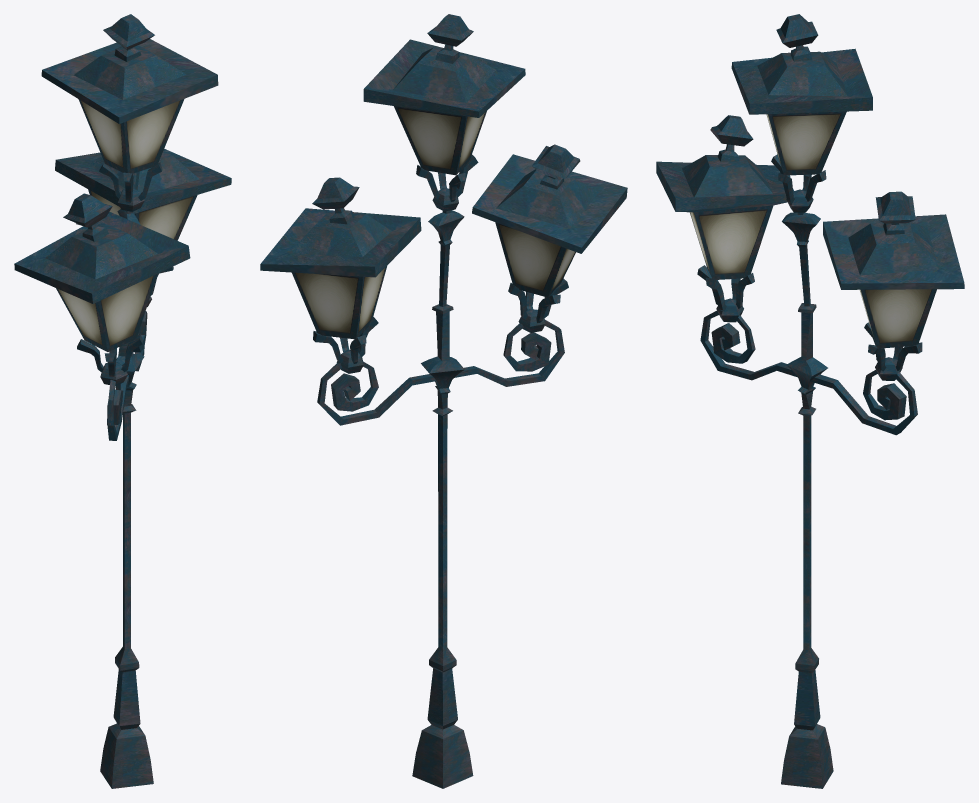
The model's file is streetLight.glb.
3 views of the same model, side by side, from view 1: azimuth 30°, elevation 25°; view 2: azimuth 150°, elevation 25°; view 3: azimuth 270°, elevation 25° (orthographic).
Visible parts, largest first — view 1: node_id32; view 2: node_id32; view 3: node_id32.
Part boxes in pixels (<box>): node_id32: <box>14,14,231,788</box>; node_id32: <box>260,14,627,788</box>; node_id32: <box>656,14,964,788</box>.
Bounding box in the file's own units: 0.1737 × 0.512 × 0.1884.
Materials: 1 (1 with a texture image).
